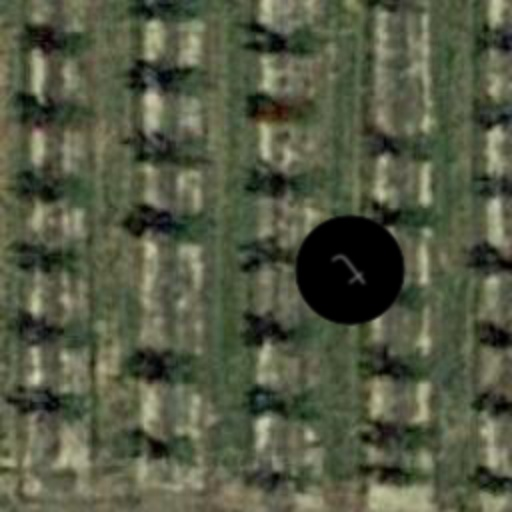circle: (272, 192, 428, 348)
